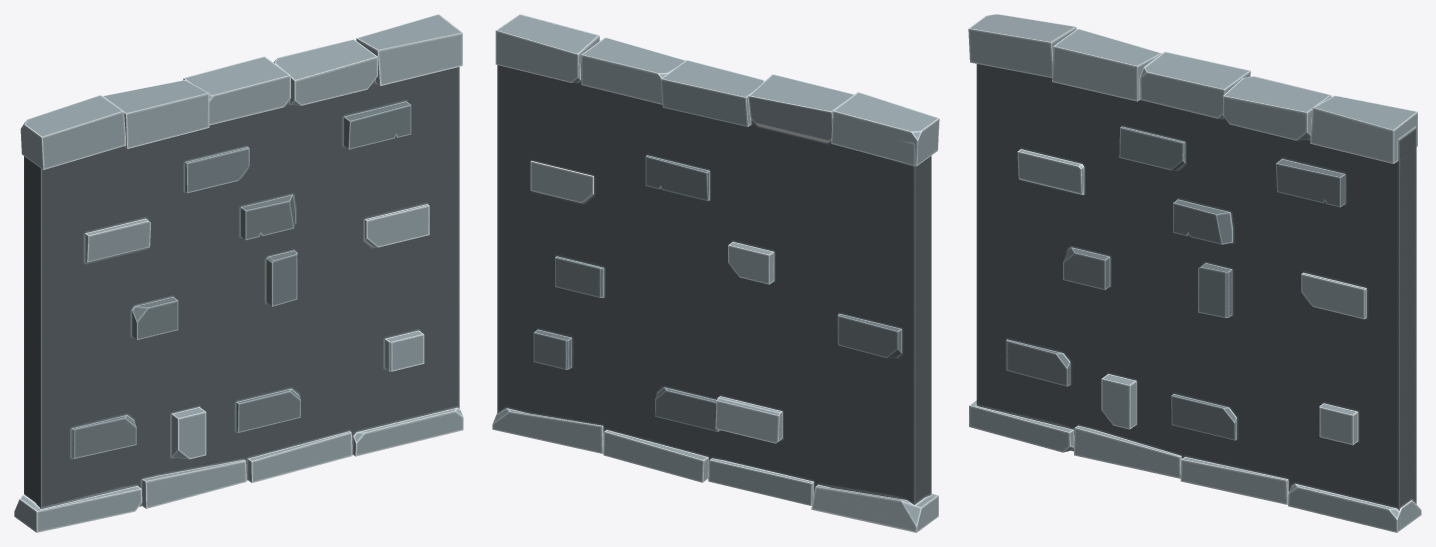
Rendered from wall_3.glb.
The picture shows the model from 3 angles, left to right: view 1: azimuth 30°, elevation 25°; view 2: azimuth 150°, elevation 25°; view 3: azimuth 330°, elevation 25°; orthographic projection.
Visible parts, largest first — view 1: Wall 1; view 2: Wall 1; view 3: Wall 1.
Part boxes in pixels (<box>): Wall 1: <box>14,14,463,532</box>; Wall 1: <box>492,14,939,532</box>; Wall 1: <box>968,14,1421,532</box>.
Size of the model in its own units: 2.03 by 1.85 by 0.2547.
Materials: 1 (1 with a texture image).
